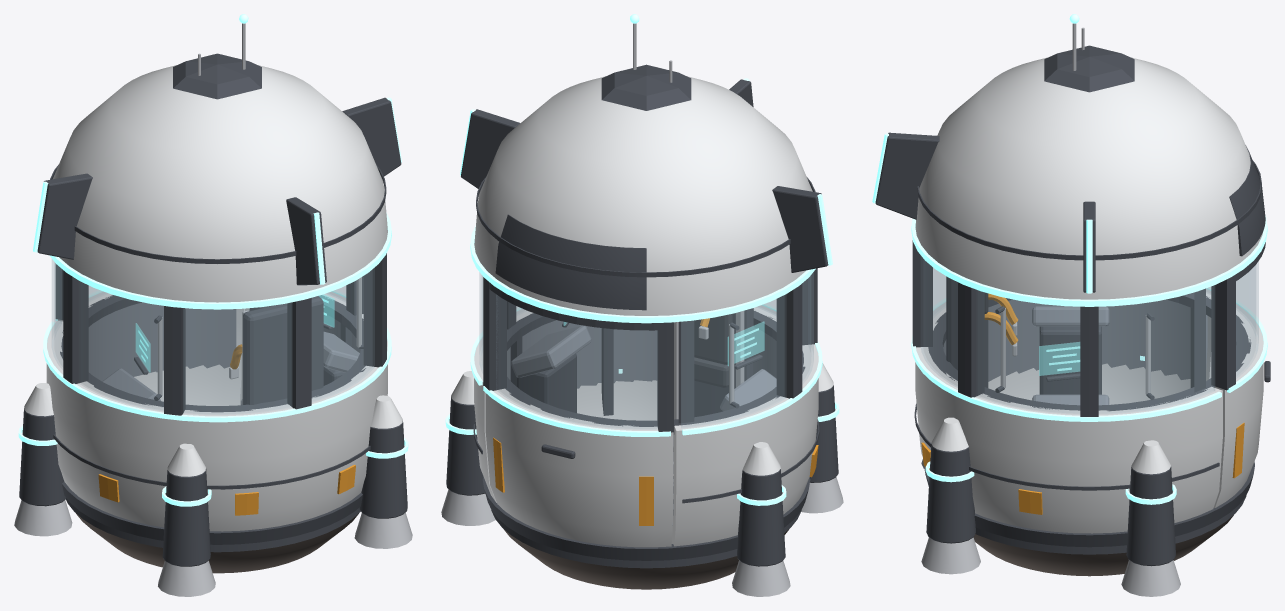
The model's file is capsule_largage.gltf.
3 renders of one model, left to right at view 1: azimuth 30°, elevation 25°; view 2: azimuth 150°, elevation 25°; view 3: azimuth 270°, elevation 25°, orthographic. The views are drawn at different scales.
Parts seen in each view (by area): view 1: Coque, Porte_corps; view 2: Coque, Porte_corps; view 3: Coque, Porte_corps.
Part boxes in pixels (x1,y1,x2,y2): Coque: (14,14,412,596); Porte_corps: (55,264,244,405); Coque: (441,14,843,596); Porte_corps: (483,277,673,547); Coque: (872,14,1267,596); Porte_corps: (1211,242,1270,507).
Bounding box in the file's own units: 3.48 × 4.72 × 3.2.
